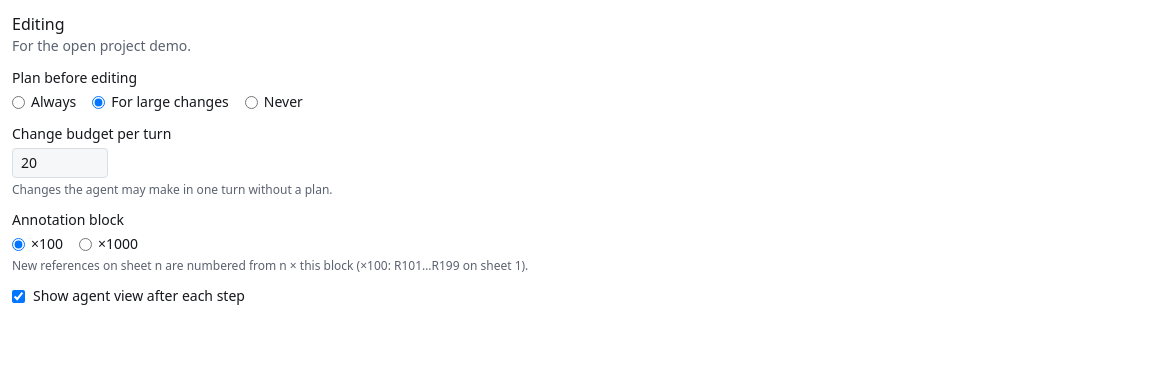
Test: EditingSection › a server 400 is shown inline and the saved value comes back
Click the radio button labelled "Never": (251, 102) [245,96,258,108]
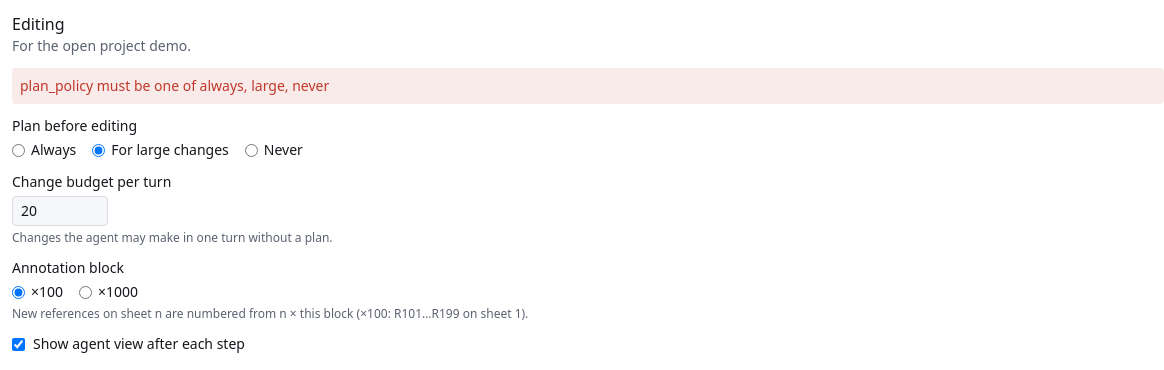
Expected: the radio button labelled "For large changes" is checked, [92,144,105,156]
Expected: the message reads "plan_policy must be one of always, large, never", [20,76,329,95]
